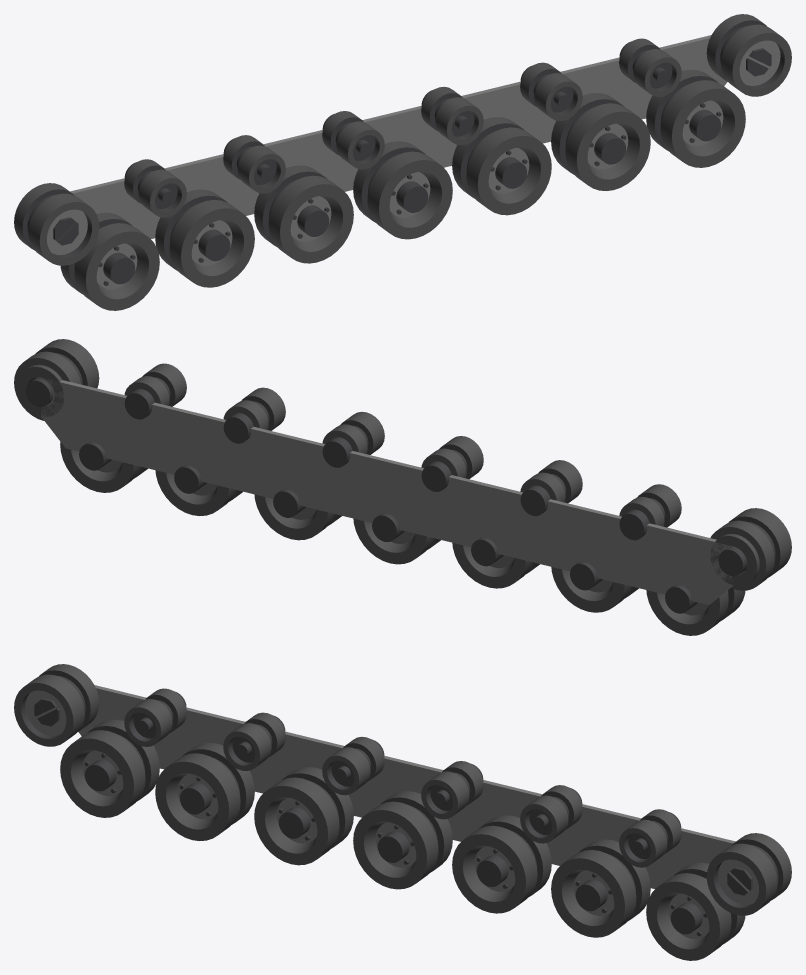
File: TankTrack_7W.fbx
3 views of the same model, one above another, from view 1: azimuth 30°, elevation 25°; view 2: azimuth 150°, elevation 25°; view 3: azimuth 330°, elevation 25° (orthographic).
Parts seen in each view (by area): view 1: TankTrack_7W, TankTrack_7W_Frame; view 2: TankTrack_7W_Frame, TankTrack_7W; view 3: TankTrack_7W, TankTrack_7W_Frame.
Boxes of the visible parts, x1,y1,x2,y2 form: TankTrack_7W: (14,14,791,310); TankTrack_7W_Frame: (70,35,727,238); TankTrack_7W_Frame: (41,377,734,605); TankTrack_7W: (14,339,791,635); TankTrack_7W: (14,664,791,960); TankTrack_7W_Frame: (78,685,735,888).
Bounding box in the file's own units: 7.6 × 1.16 × 0.55.
1 material, 1 textured.
